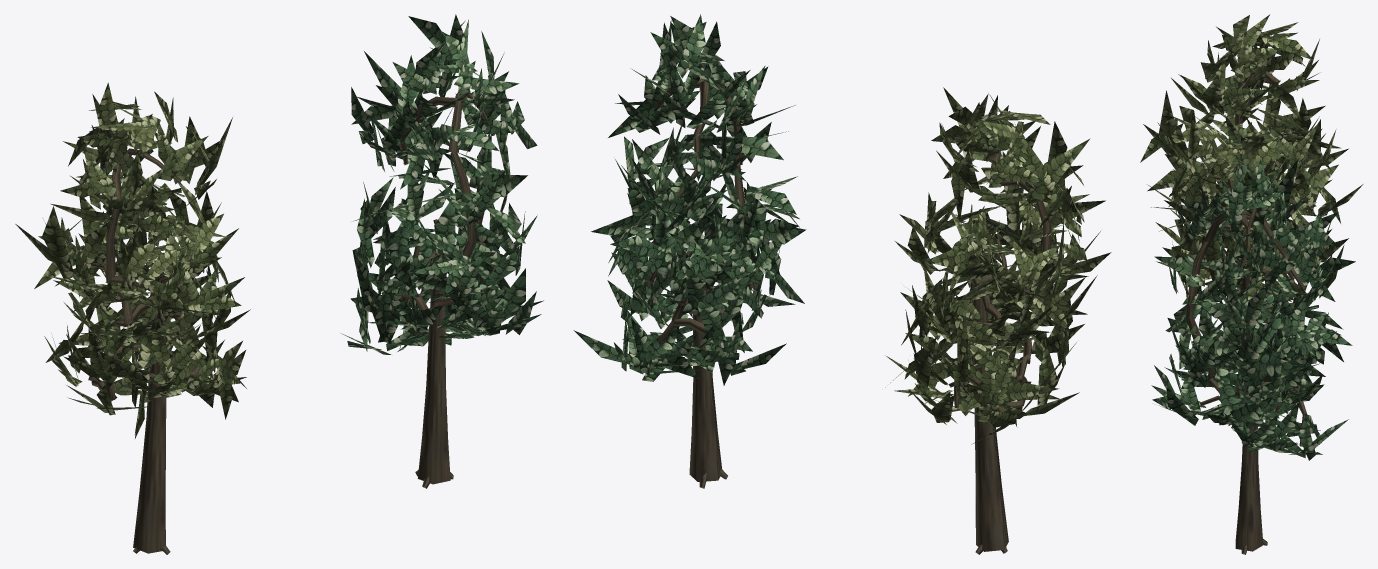
The model's file is tree_slim_far.glb.
The picture shows the model from 3 angles, left to right: view 1: azimuth 30°, elevation 25°; view 2: azimuth 150°, elevation 25°; view 3: azimuth 270°, elevation 25°; orthographic projection. The views are drawn at different scales.
Parts seen in each view (by area): view 1: tree_slim_lod1; view 2: tree_slim_lod1; view 3: tree_slim_lod1.
Part boxes in pixels (x1,y1,x2,y2): tree_slim_lod1: [15, 14, 543, 554]; tree_slim_lod1: [573, 14, 1111, 554]; tree_slim_lod1: [1140, 14, 1363, 554].
Bounding box in the file's own units: 3.96 × 3.57 × 1.8.
Materials: 1 (1 with a texture image).
